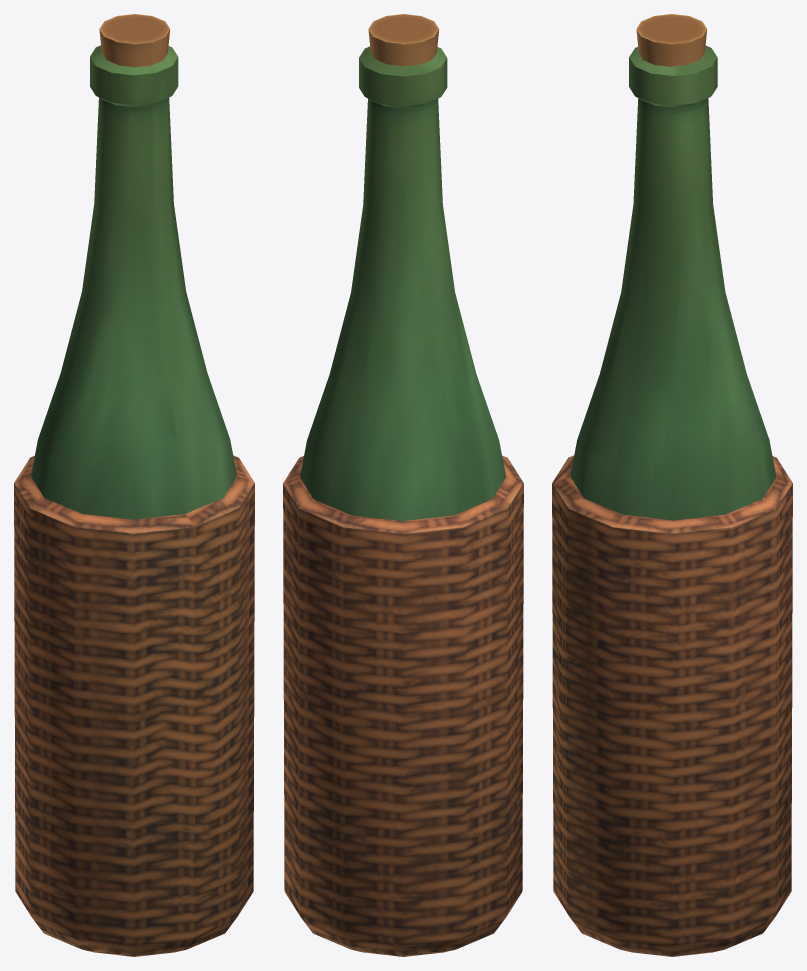
File: SM_Drink_Bottle_B2_Green.fbx
3 views of the same model, side by side, from view 1: azimuth 30°, elevation 25°; view 2: azimuth 150°, elevation 25°; view 3: azimuth 270°, elevation 25° (orthographic).
Parts seen in each view (by area): view 1: SM_Drink_Bottle_B2_Green_LOD0; view 2: SM_Drink_Bottle_B2_Green_LOD0; view 3: SM_Drink_Bottle_B2_Green_LOD0.
Part boxes in pixels (left/top/right/bottom): SM_Drink_Bottle_B2_Green_LOD0: left=14, top=14, right=254, bottom=956; SM_Drink_Bottle_B2_Green_LOD0: left=283, top=14, right=523, bottom=956; SM_Drink_Bottle_B2_Green_LOD0: left=552, top=14, right=792, bottom=956.
Bounding box in the file's own units: 8.57 × 8.57 × 35.1.
1 material, 1 textured.
